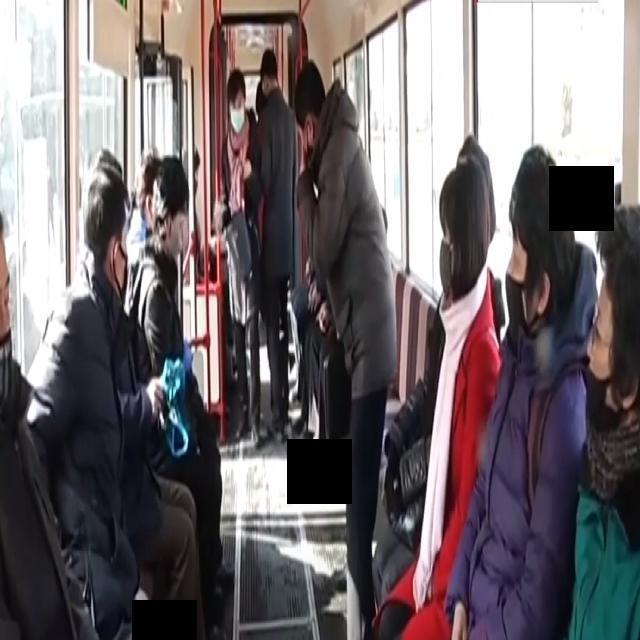hairnet: (578, 335, 636, 450)
mask: (503, 141, 574, 362), (436, 162, 489, 296), (85, 164, 131, 306), (152, 154, 189, 259), (0, 224, 17, 417), (294, 61, 324, 167), (225, 70, 245, 142)
